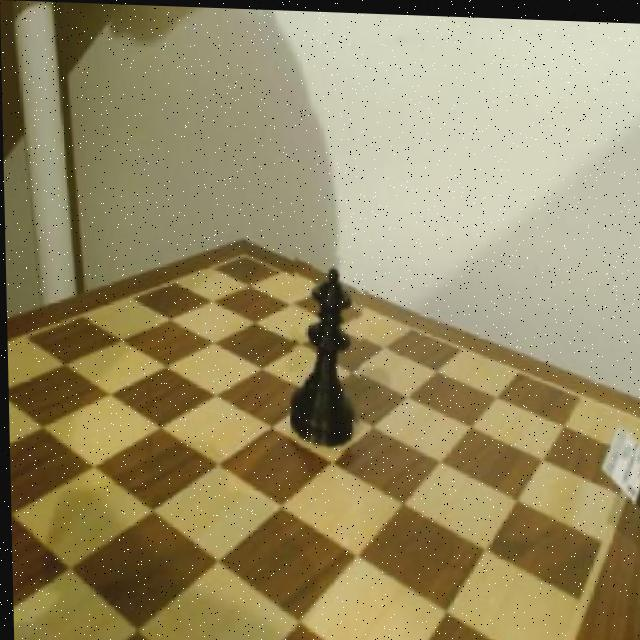black-pawn: (285, 250, 364, 451)
